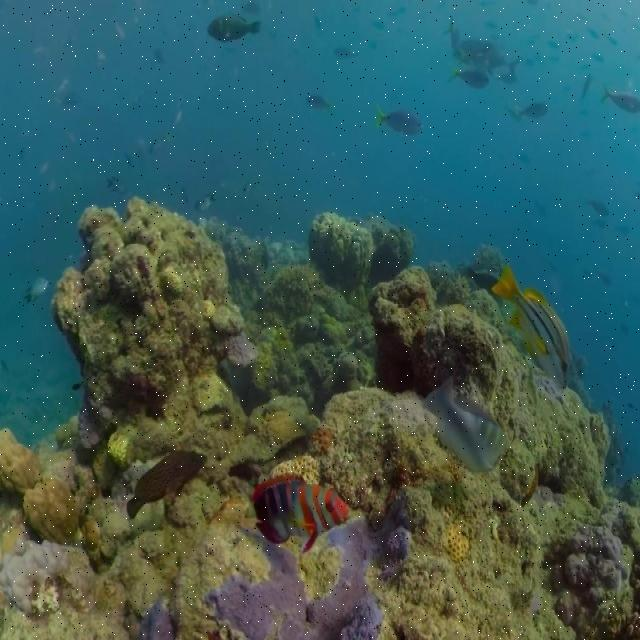fish: (492, 269, 570, 384), (253, 473, 347, 550), (428, 378, 506, 470), (127, 454, 203, 518), (208, 14, 263, 44), (375, 110, 422, 137), (601, 84, 639, 112), (448, 67, 491, 90), (22, 279, 50, 309)
